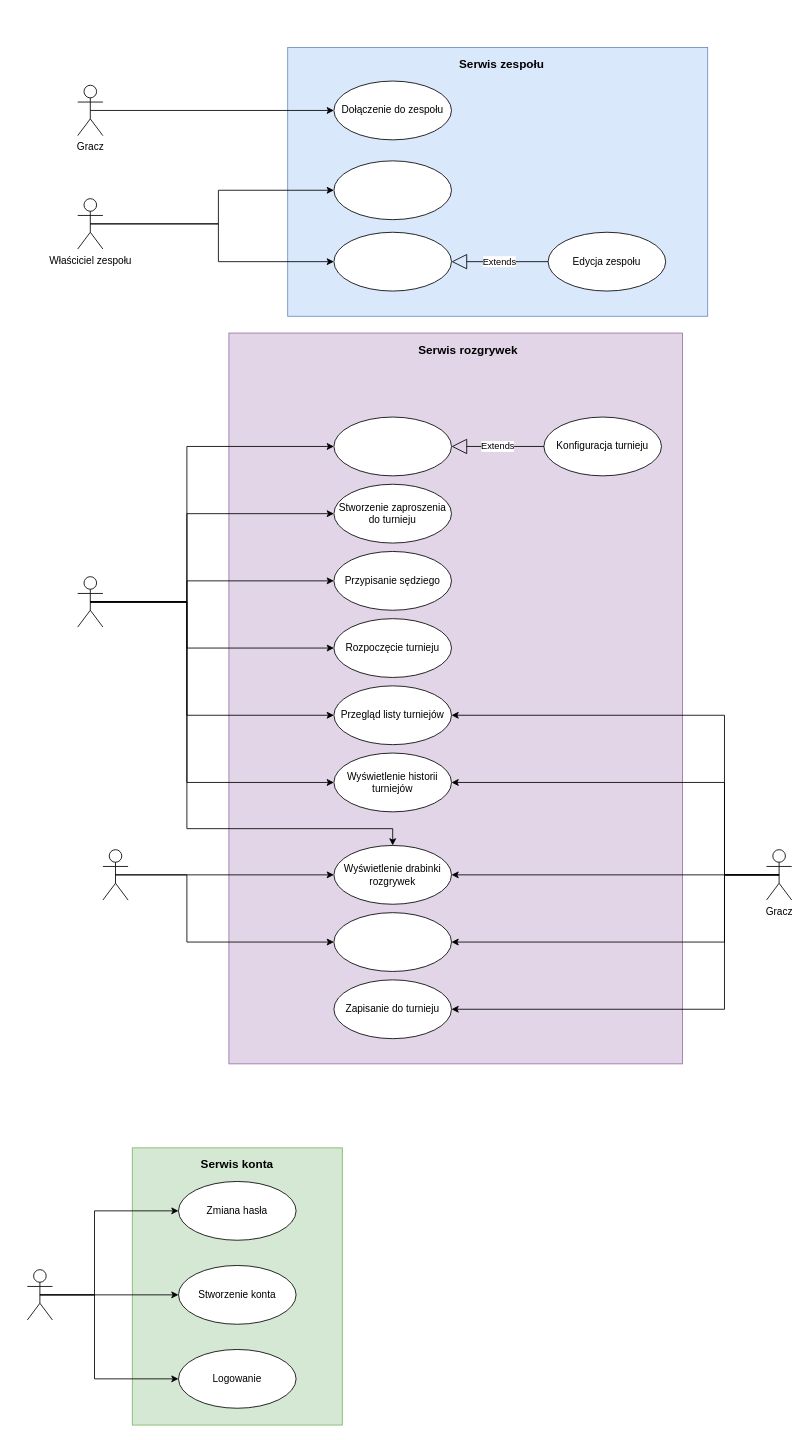
This 807x1440 diagram has some shape labels left out. Each missing label, with the centre of its shape:
"Dodanie rezultatu rozegranego meczu" goes at [392,941].
"Organizator rozgrywek" goes at [90,601].
"Stworzenie turnieju" goes at [392,446].
"Stworzenie zespołu" goes at [392,261].
"Sędzia" goes at [115,874].
"Użytkownik" goes at [39,1294].
"Zaproszenie gracza do zespołu" goes at [392,190].
